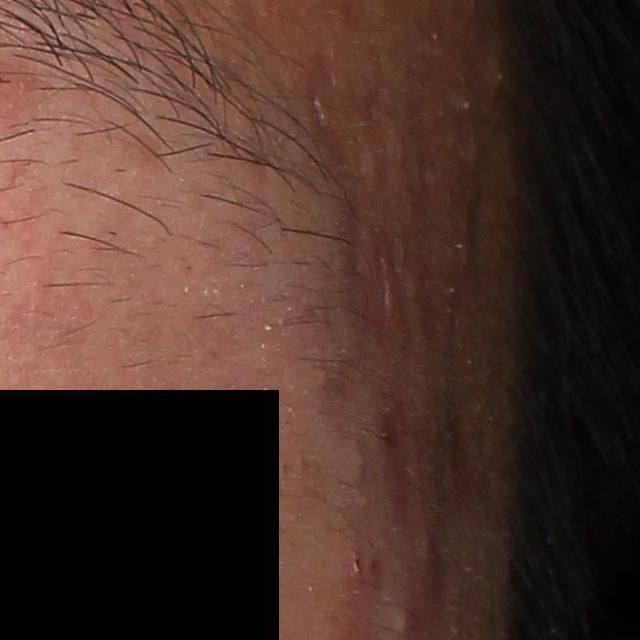comedo: (390, 603, 414, 634)
